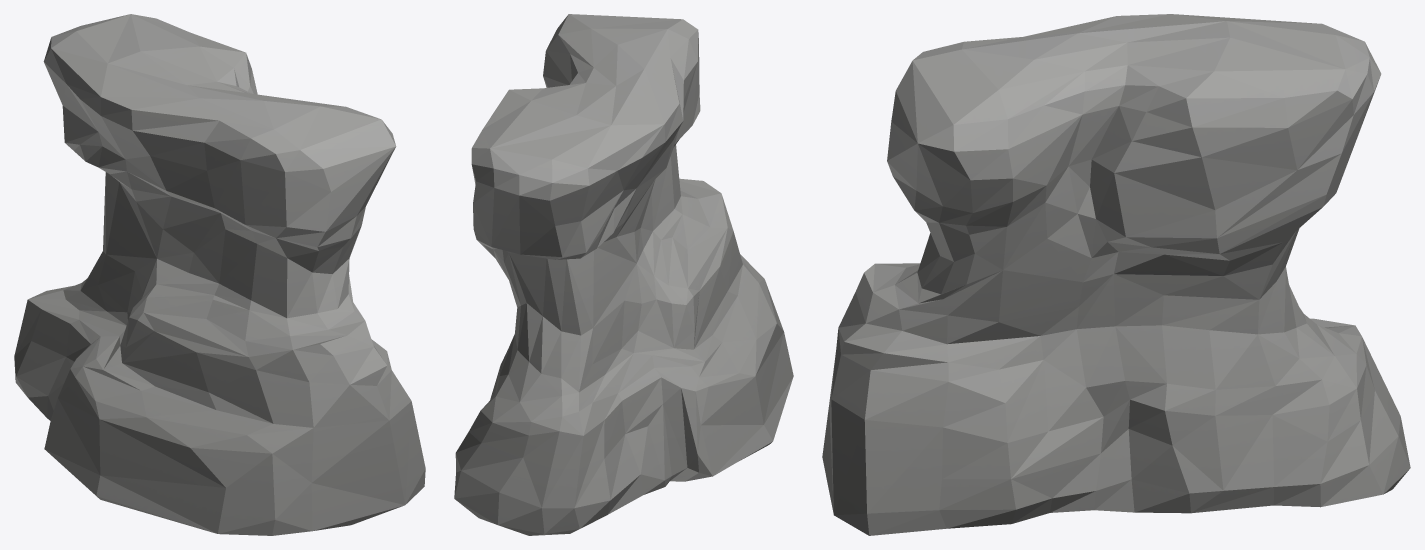
File: Cavern_Wall_Narrow-02.fbx
3 renders of one model, left to right at view 1: azimuth 30°, elevation 25°; view 2: azimuth 150°, elevation 25°; view 3: azimuth 270°, elevation 25°, orthographic. The views are drawn at different scales.
Parts seen in each view (by area): view 1: Cavern_Wall_Narrow-02; view 2: Cavern_Wall_Narrow-02; view 3: Cavern_Wall_Narrow-02.
Part boxes in pixels (<box>): Cavern_Wall_Narrow-02: <box>14,14,425,535</box>; Cavern_Wall_Narrow-02: <box>454,14,793,535</box>; Cavern_Wall_Narrow-02: <box>822,14,1410,535</box>.
Bounding box in the file's own units: 857 × 1179 × 1430.
1 material, 1 textured.
